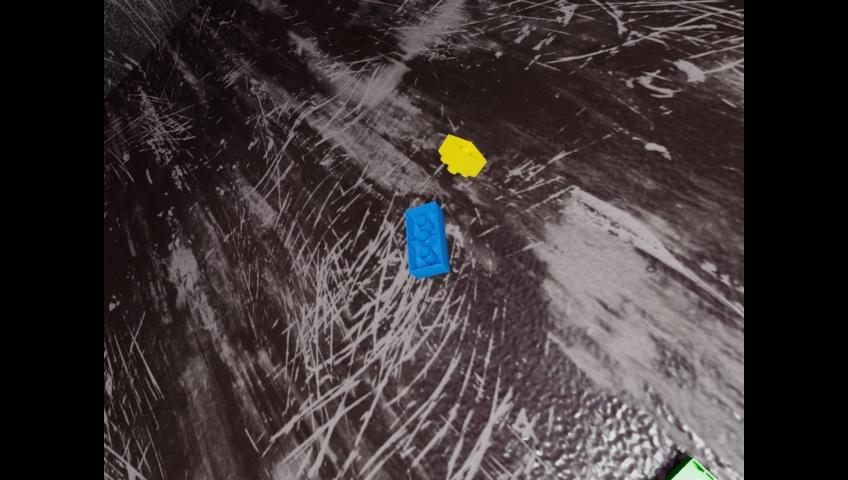2x2_green: (662, 455, 717, 480)
2x2_yellow: (438, 134, 485, 176)
4x2_blue: (405, 201, 449, 278)
